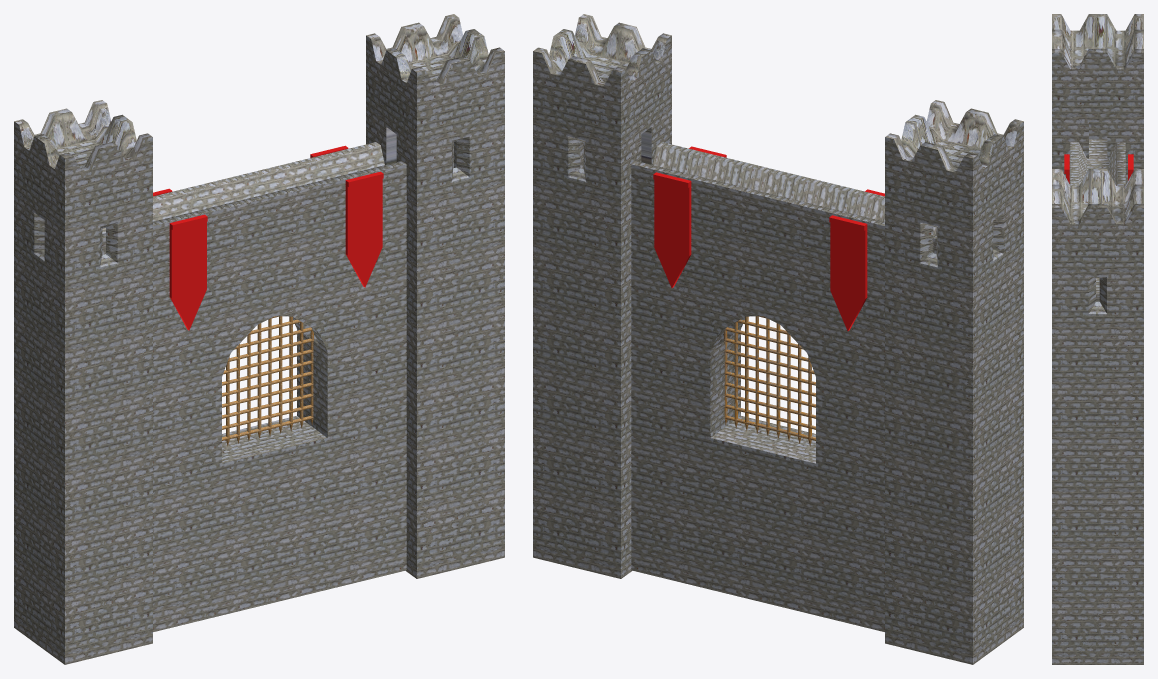
File: Enterance.FBX
3 views of the same model, side by side, from view 1: azimuth 30°, elevation 25°; view 2: azimuth 150°, elevation 25°; view 3: azimuth 270°, elevation 25° (orthographic). The views are drawn at different scales.
Visible parts, largest first — view 1: CenterWall, SidePost, SidePostRight, Flag, Flag001; view 2: CenterWall, SidePost, SidePostRight, Flag002, Flag003; view 3: SidePostRight, SidePost, CenterWall.
Part boxes in pixels (x1=…): CenterWall: x1=102, y1=142, x2=406, y2=631; SidePost: x1=14, y1=100, x2=152, y2=664; SidePostRight: x1=366, y1=14, x2=504, y2=578; Flag: x1=169, y1=214, x2=207, y2=330; Flag001: x1=345, y1=171, x2=383, y2=287; CenterWall: x1=631, y1=142, x2=936, y2=631; SidePost: x1=885, y1=100, x2=1023, y2=664; SidePostRight: x1=533, y1=14, x2=671, y2=578; Flag002: x1=829, y1=215, x2=867, y2=331; Flag003: x1=653, y1=172, x2=691, y2=288; SidePostRight: x1=1052, y1=169, x2=1143, y2=664; SidePost: x1=1052, y1=14, x2=1143, y2=184; CenterWall: x1=1070, y1=139, x2=1125, y2=301.
Bounding box in the file's own units: 125 × 138 × 25.
